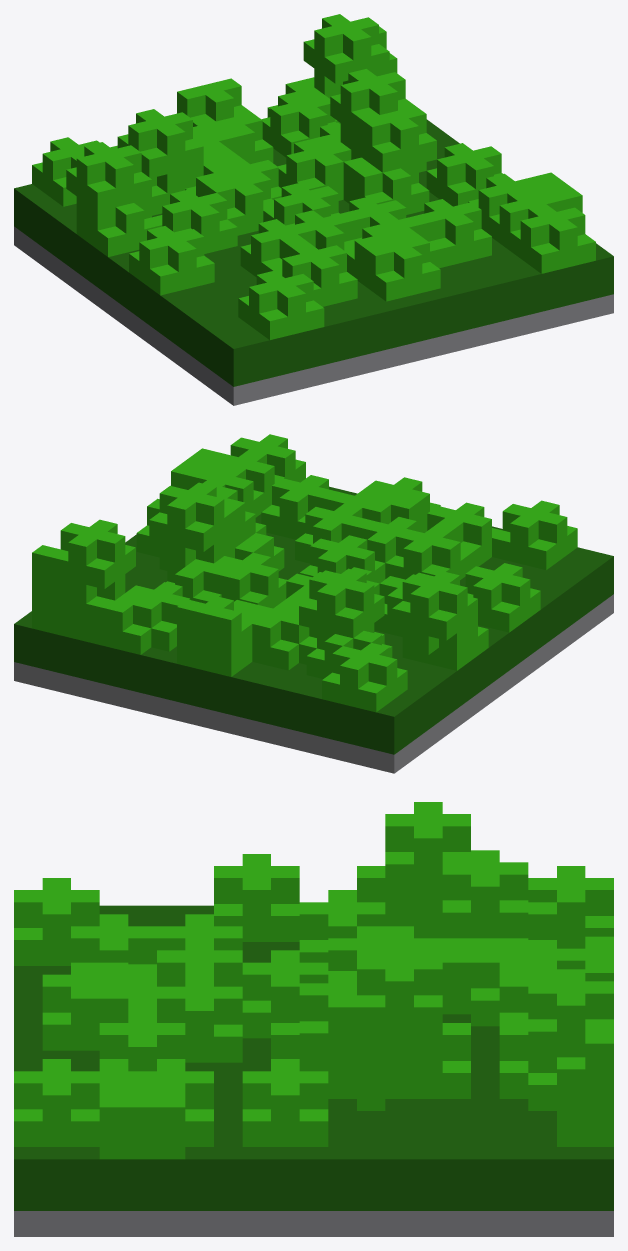
File: forest2.obj
3 views of the same model, one above another, from view 1: azimuth 30°, elevation 25°; view 2: azimuth 150°, elevation 25°; view 3: azimuth 270°, elevation 25° (orthographic). The views are drawn at different scales.
Size of the model in its own units: 21 by 8 by 21.
Materials: 1 (1 with a texture image).
